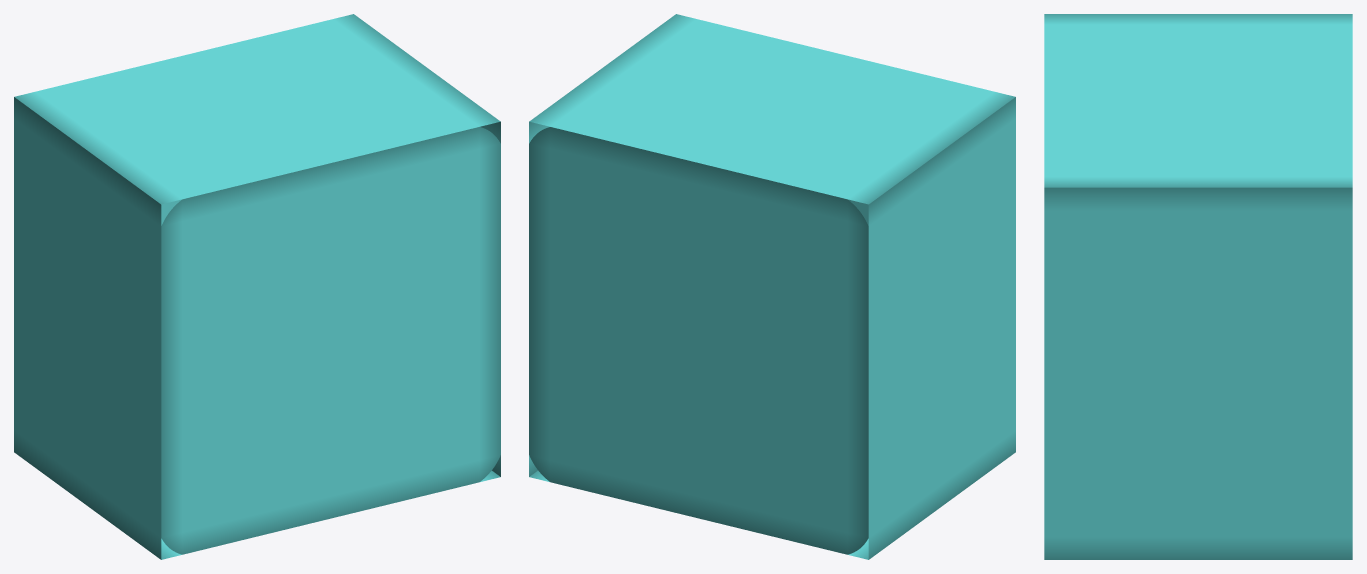
The model's file is T_NumberDice_Export.fbx.
The picture shows the model from 3 angles, left to right: view 1: azimuth 30°, elevation 25°; view 2: azimuth 150°, elevation 25°; view 3: azimuth 270°, elevation 25°; orthographic projection. The views are drawn at different scales.
Visible parts, largest first — view 1: generated; view 2: generated; view 3: generated.
Part boxes in pixels (x1=…): generated: x1=14, y1=14, x2=500, y2=559; generated: x1=529, y1=14, x2=1015, y2=559; generated: x1=1044, y1=14, x2=1352, y2=559.
Bounding box in the file's own units: 40 × 40 × 30.
